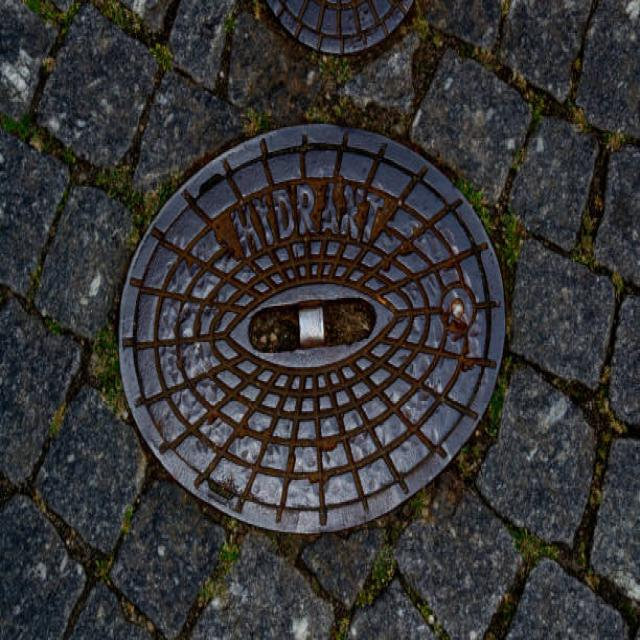Good: (116, 120, 510, 540)
